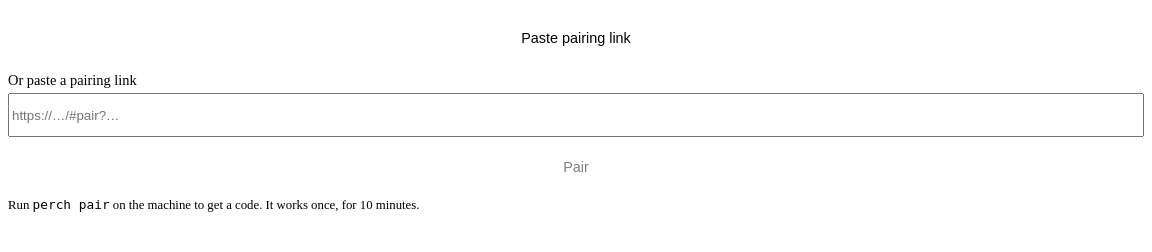
Scenario: PairMachine › points to the field when the clipboard cannot be read
Click the button "Paste pairing link": (576, 38) [8,16,1144,60]
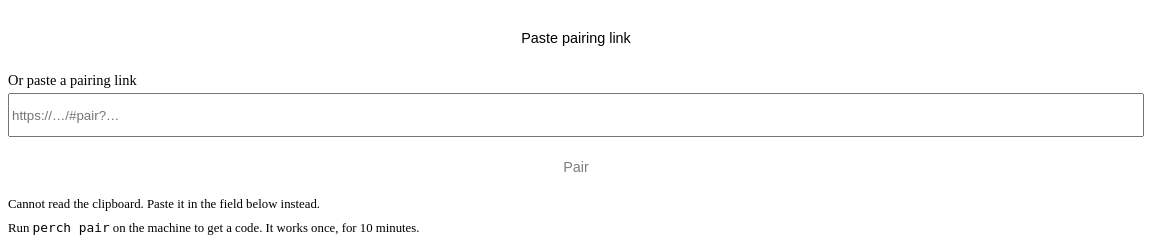
expect the message reads "Cannot read the clipboard. Paste it in the field below instead.": met, box [8,197,320,211]
